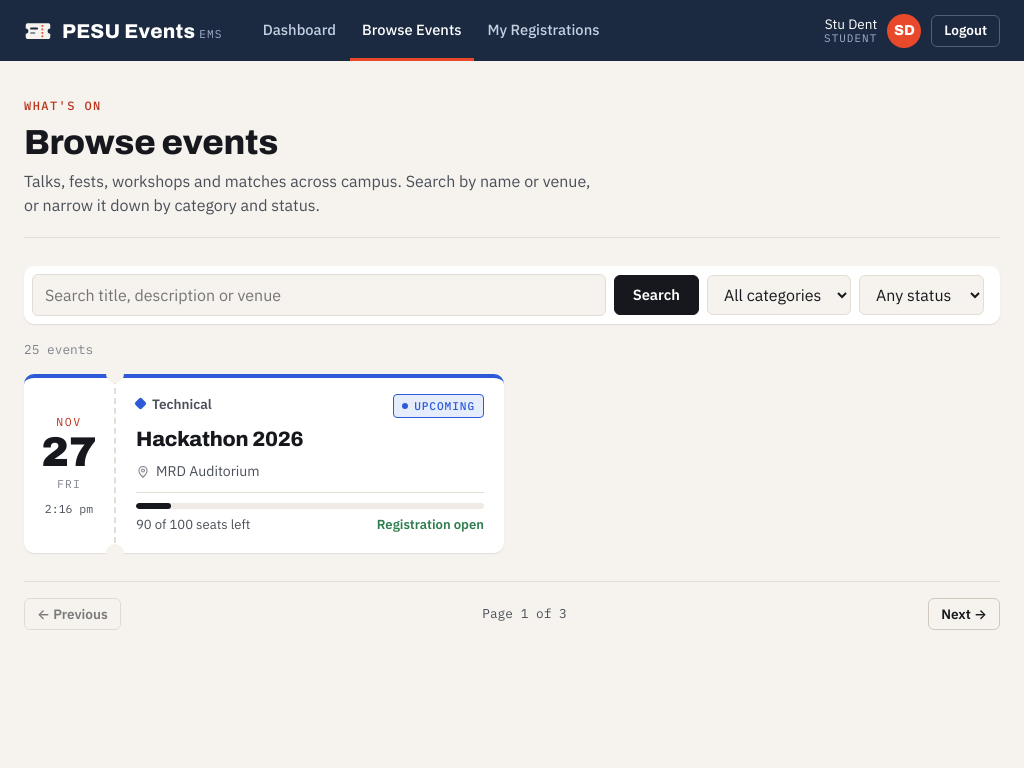
it: Browse Events › TC-DISC-01: more than one page shows Next, which loads page 2
Click the button "Next →". click: (964, 614)
box: [928,598,1000,630]
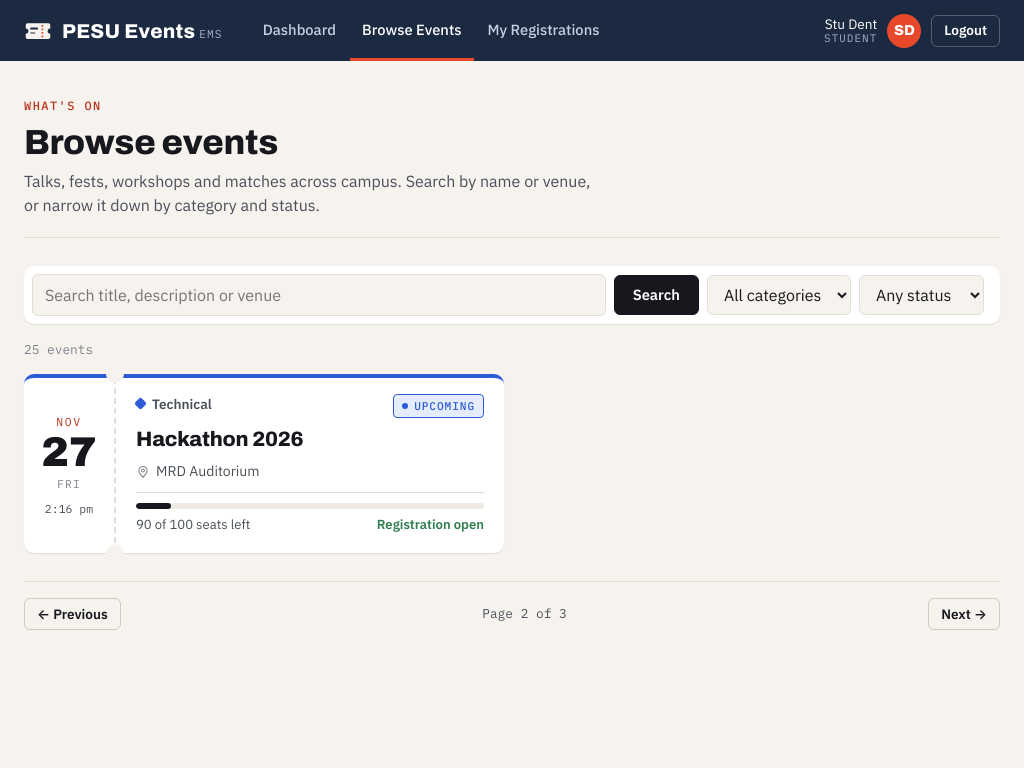
Expected: the text "Page 2 of 3" is shown, [482,604,567,624]
